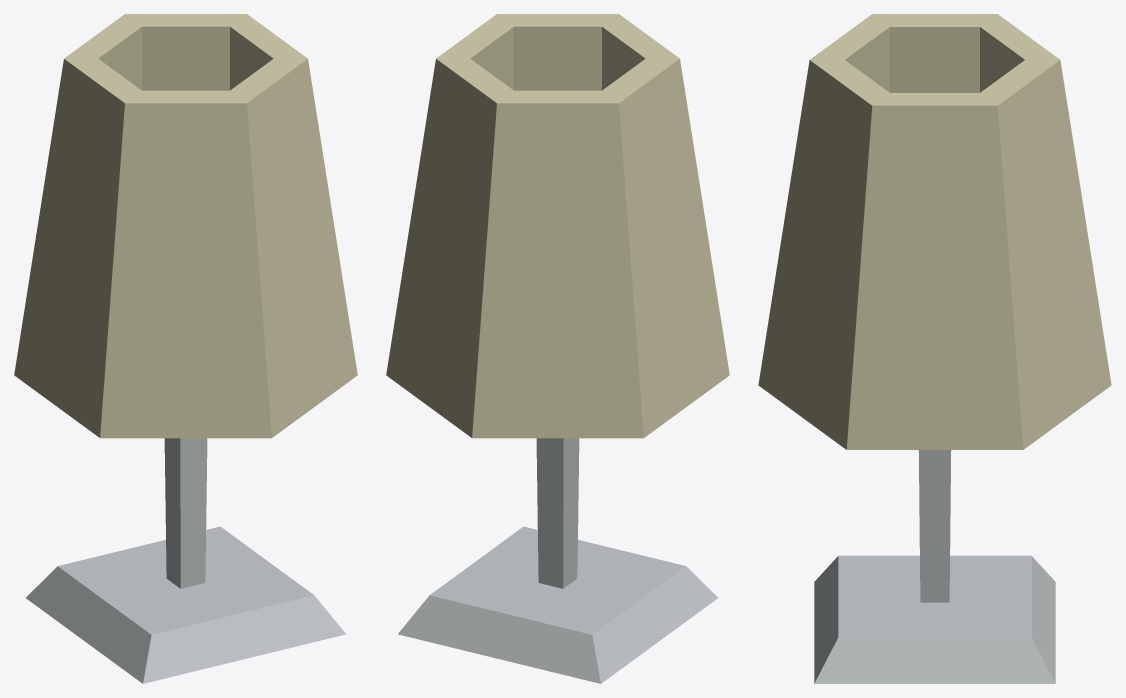
Rendered from furniture-kit__lampRoundTable.glb.
3 renders of one model, left to right at view 1: azimuth 30°, elevation 25°; view 2: azimuth 150°, elevation 25°; view 3: azimuth 270°, elevation 25°, orthographic. The views are drawn at different scales.
Parts seen in each view (by area): view 1: lampRoundTable(Clone); view 2: lampRoundTable(Clone); view 3: lampRoundTable(Clone).
Boxes of the visible parts, <box> form: lampRoundTable(Clone): <box>14,14,357,683</box>; lampRoundTable(Clone): <box>386,14,729,683</box>; lampRoundTable(Clone): <box>758,14,1111,683</box>.
Bounding box in the file's own units: 0.7741 × 1.6 × 0.8939.
